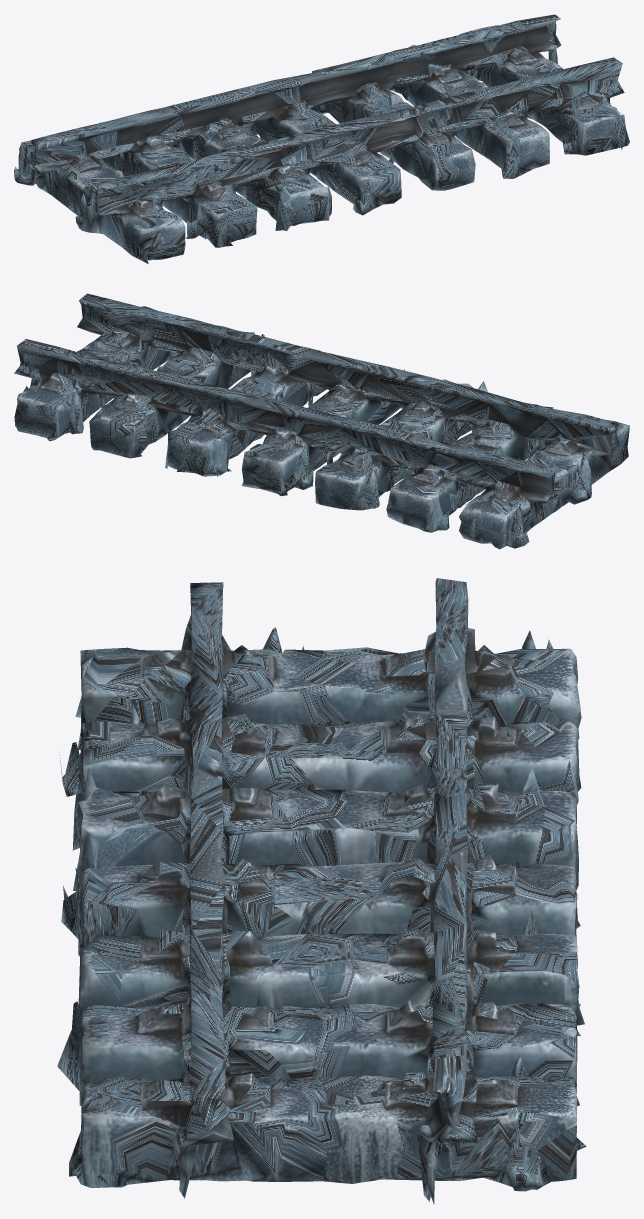
Rendered from ice_railroad_track_01.glb.
3 views of the same model, one above another, from view 1: azimuth 30°, elevation 25°; view 2: azimuth 150°, elevation 25°; view 3: azimuth 270°, elevation 25° (orthographic). The views are drawn at different scales.
Visible parts, largest first — view 1: tripo_node_a9e25aa4-5e8c-4121-9d73-940f133ffc73; view 2: tripo_node_a9e25aa4-5e8c-4121-9d73-940f133ffc73; view 3: tripo_node_a9e25aa4-5e8c-4121-9d73-940f133ffc73.
Part boxes in pixels (left/top/right/bottom): tripo_node_a9e25aa4-5e8c-4121-9d73-940f133ffc73: left=14, top=14, right=629, bottom=263; tripo_node_a9e25aa4-5e8c-4121-9d73-940f133ffc73: left=14, top=293, right=629, bottom=549; tripo_node_a9e25aa4-5e8c-4121-9d73-940f133ffc73: left=57, top=578, right=586, bottom=1204.
Size of the model in its own units: 0.9852 by 0.1195 by 0.4313.
1 material, 1 textured.
